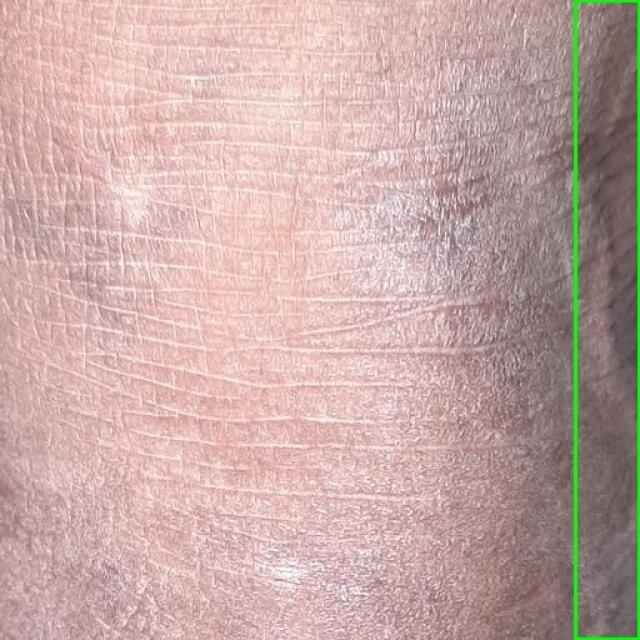Contact Dermatitis: (575, 0, 639, 639)
